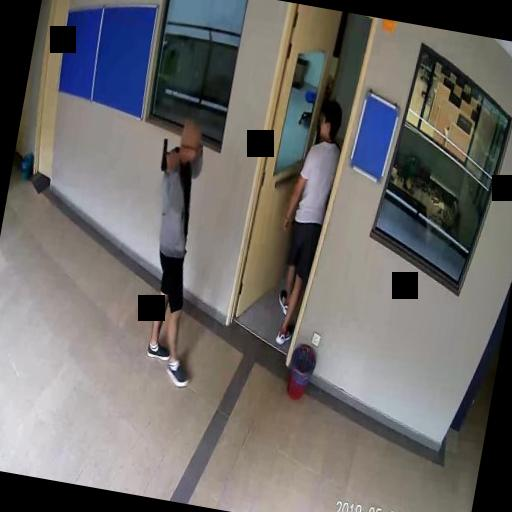Handgun: (157, 137, 179, 171)
